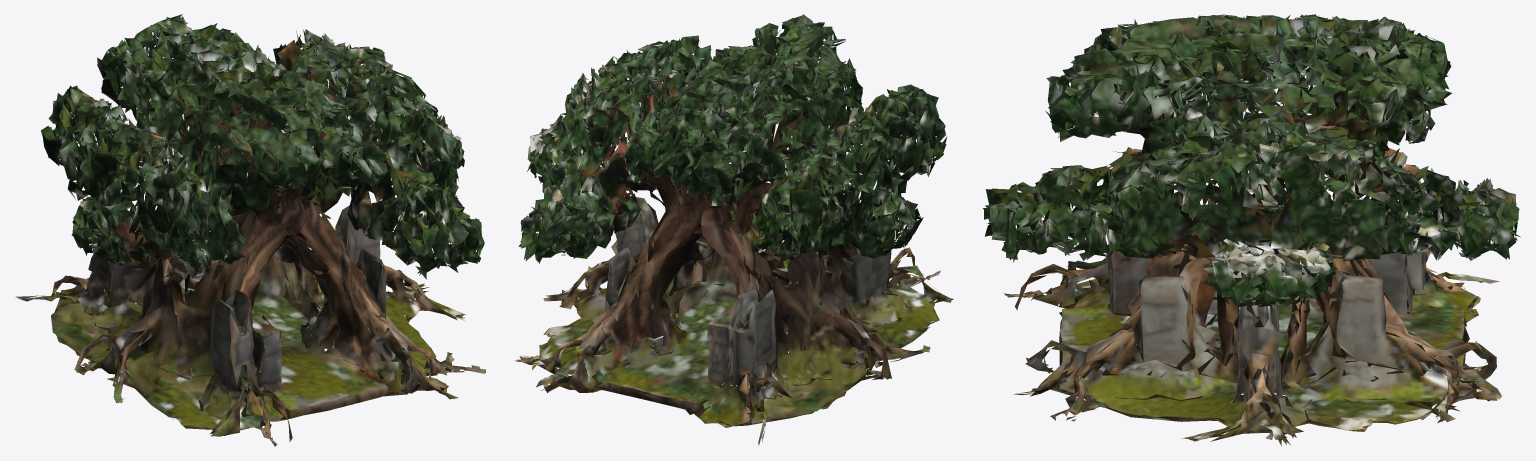
Rendered from F3D_02_BentTree.fbx.
The picture shows the model from 3 angles, left to right: view 1: azimuth 30°, elevation 25°; view 2: azimuth 150°, elevation 25°; view 3: azimuth 270°, elevation 25°; orthographic projection. The views are drawn at different scales.
Parts seen in each view (by area): view 1: F3D_02_BentTree; view 2: F3D_02_BentTree; view 3: F3D_02_BentTree.
Part boxes in pixels (<box>): F3D_02_BentTree: <box>15,14,485,446</box>; F3D_02_BentTree: <box>514,14,953,445</box>; F3D_02_BentTree: <box>983,14,1520,446</box>.
Bounding box in the file's own units: 1.31 × 1 × 1.47.
